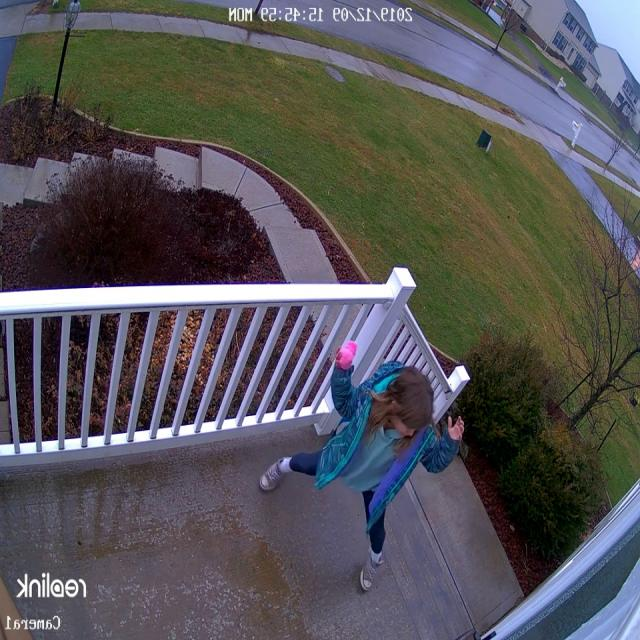child: (255, 348, 470, 595)
